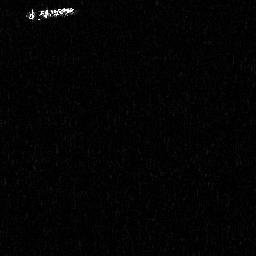ship: (24, 6, 76, 23)
